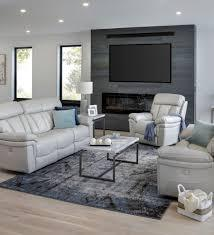TV: (109, 44, 171, 84)
chair: (151, 125, 214, 201), (126, 88, 184, 146)
light: (76, 82, 94, 108), (52, 18, 71, 28), (18, 6, 32, 19), (77, 0, 92, 10), (20, 28, 34, 38), (174, 8, 183, 20)
sofa: (2, 100, 95, 175)
table: (82, 137, 139, 182), (78, 114, 110, 138)
